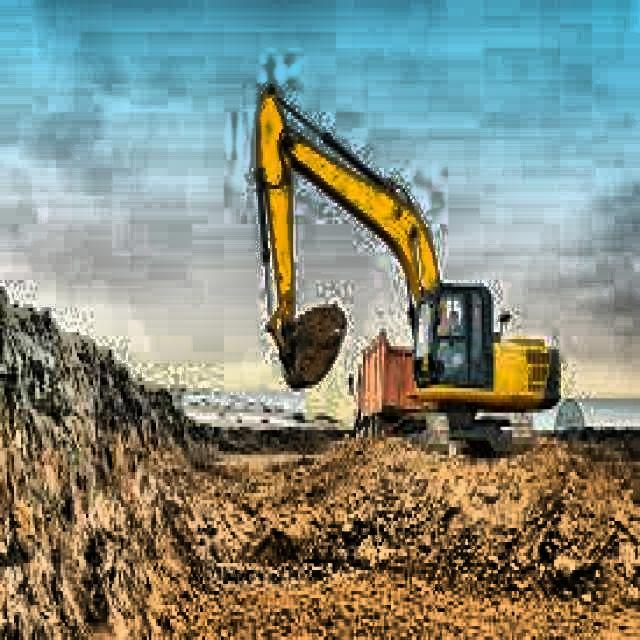bull_dozer/loader/grader: (251, 79, 568, 462)
person: (444, 304, 462, 369)
